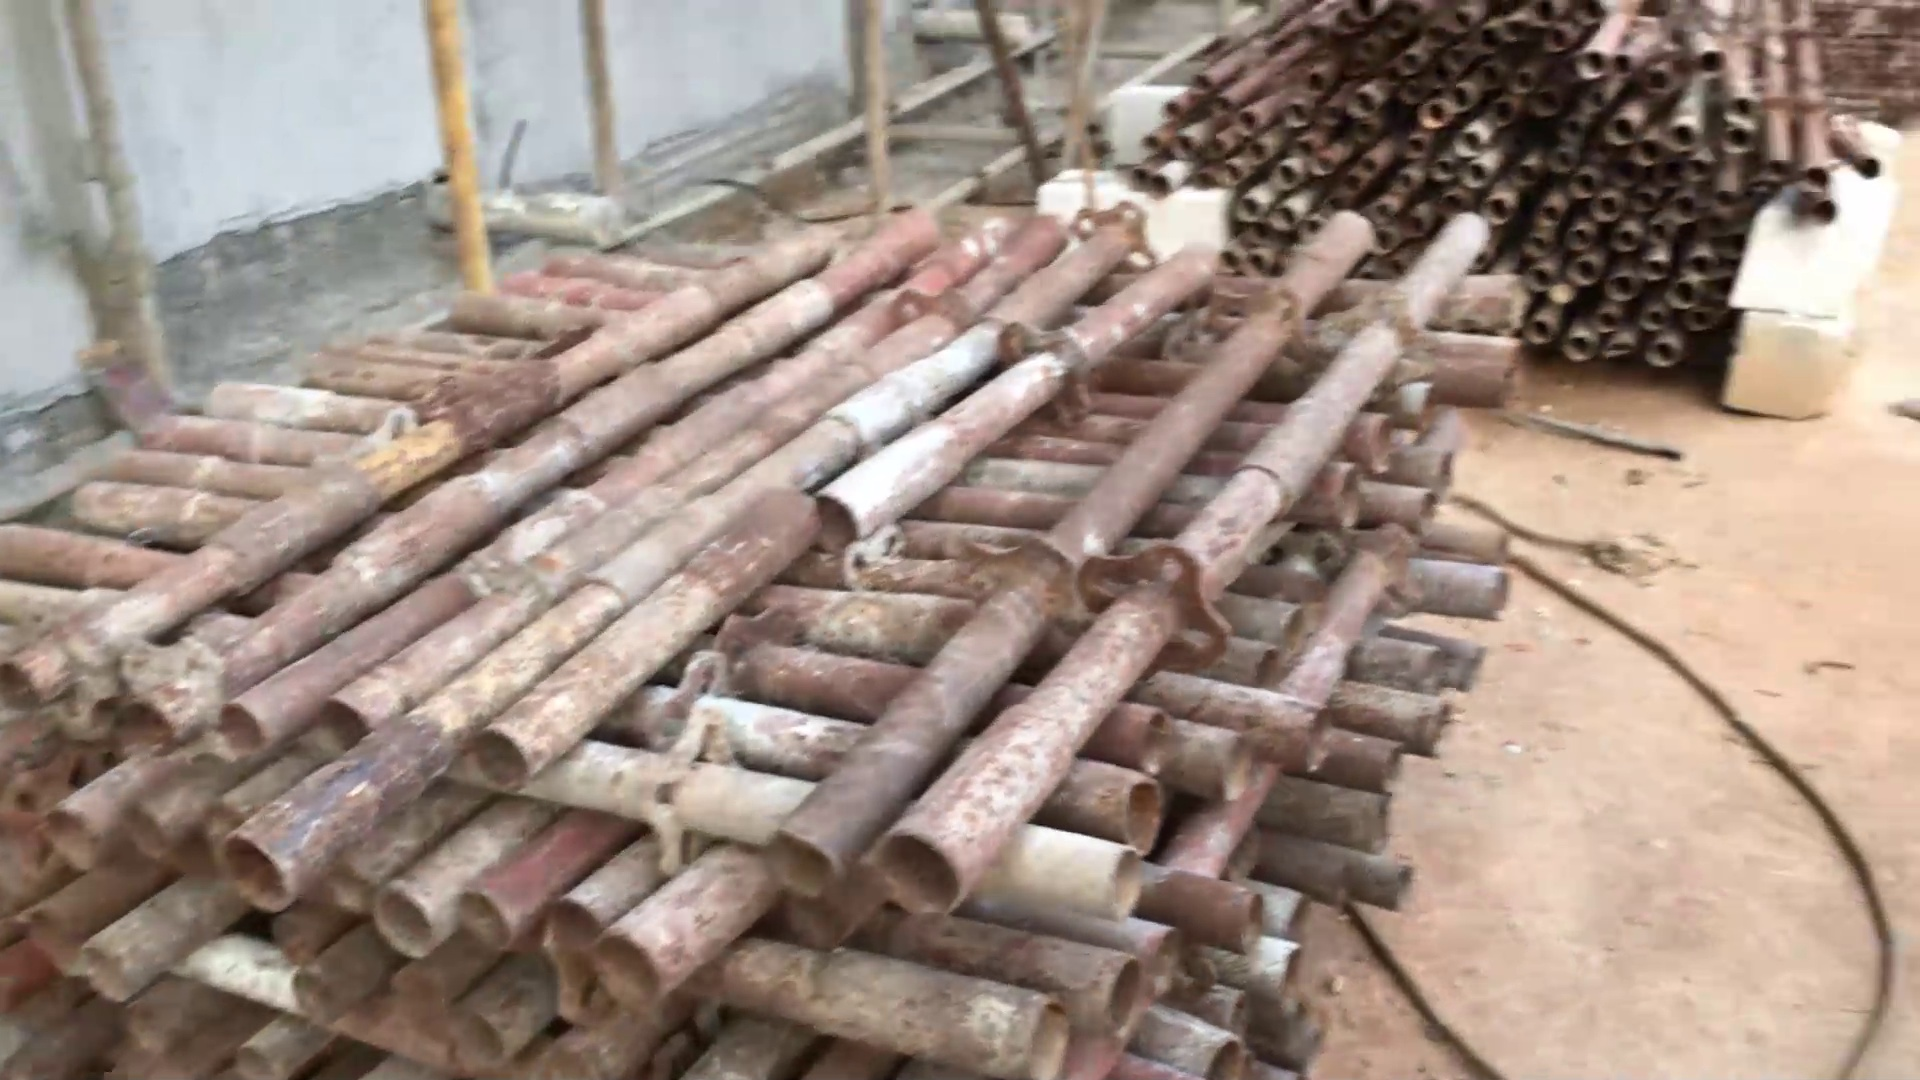scaffold: (3, 186, 1545, 1080), (1126, 1, 1920, 381)
